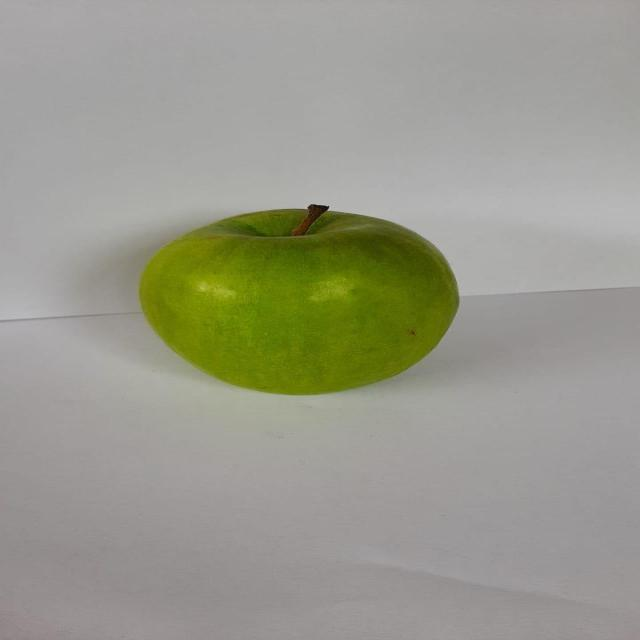Rotten Apple: (132, 196, 464, 407)
